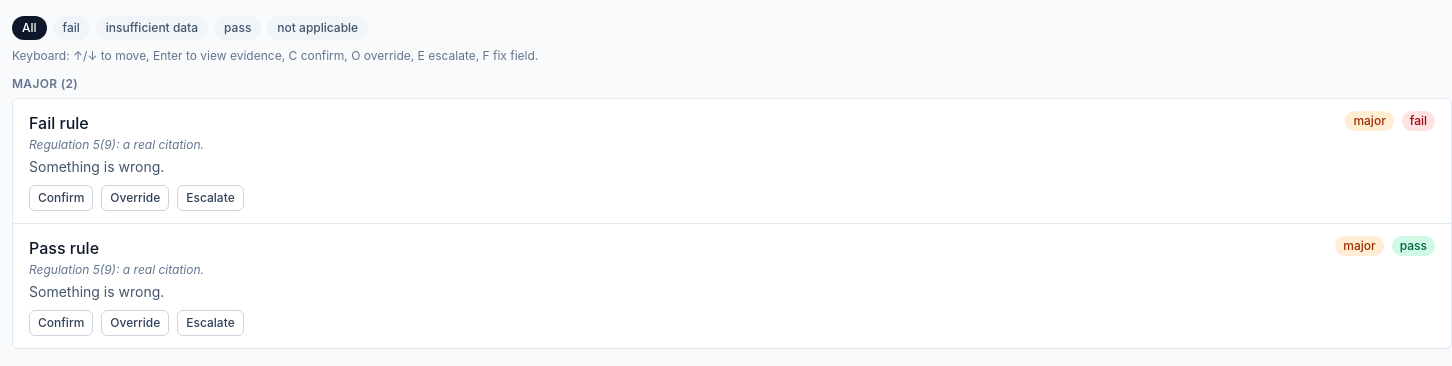
it: FindingsPanel › filters findings by status
Expected: the text "Fail rule" is shown, [29, 113, 89, 133]
Expected: the text "Pass rule" is shown, [29, 238, 99, 258]
Click the button "fail" at (71, 28), box [53, 16, 90, 40]
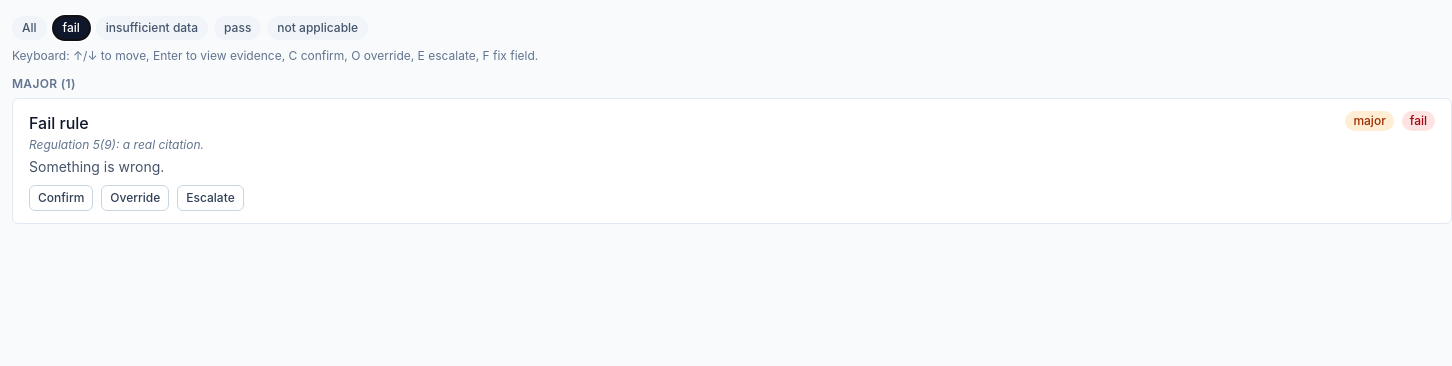
Expected: the text "Fail rule" is shown, [29, 113, 89, 133]
Expected: the button "Pass rule" is gone
